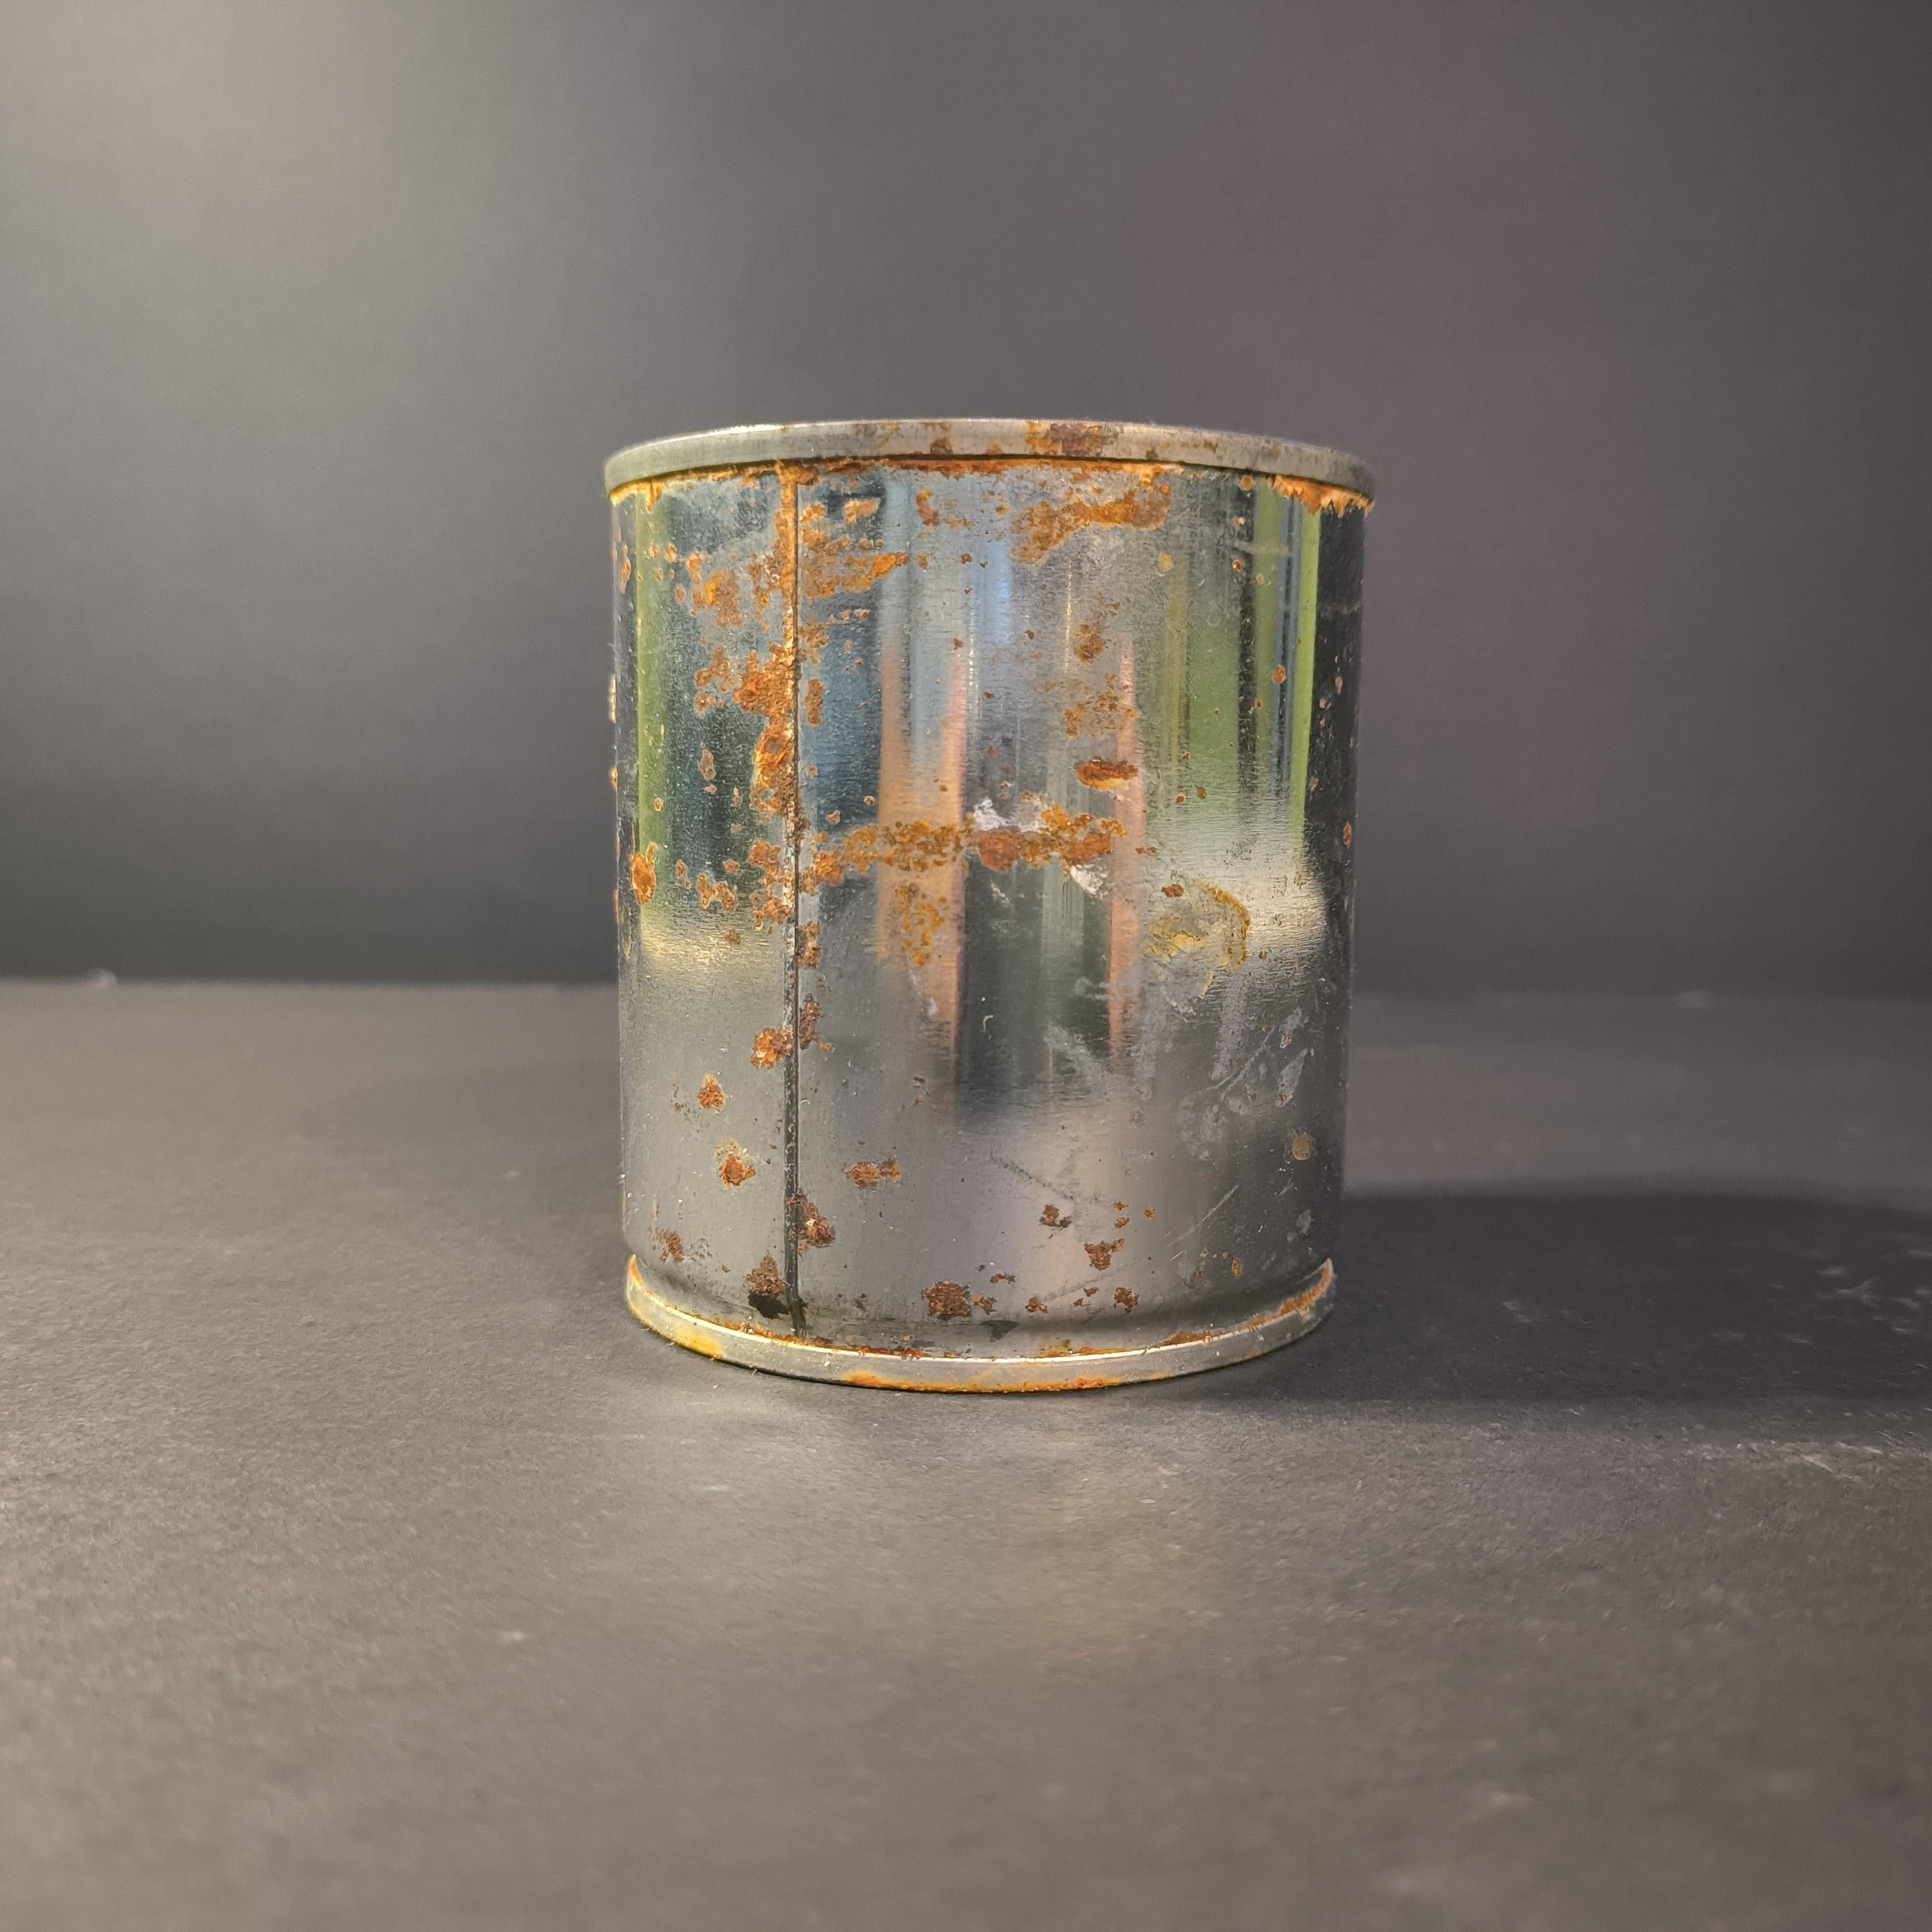Rusted: (584, 403, 1389, 1428)
